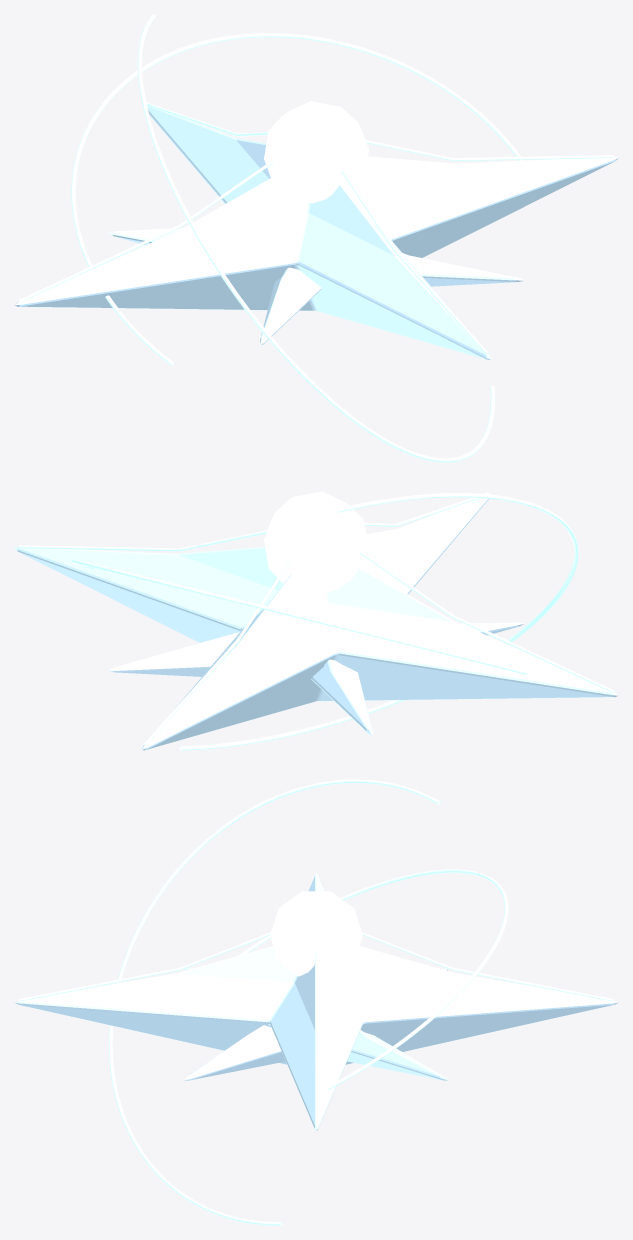
The model's file is aster.glb.
The picture shows the model from 3 angles, top to bottom: view 1: azimuth 30°, elevation 25°; view 2: azimuth 150°, elevation 25°; view 3: azimuth 270°, elevation 25°; orthographic projection. The views are drawn at different scales.
Parts seen in each view (by area): view 1: aster primary, aster radiant core, aster undercrown, aster orbit export, aster orbit.001 export, aster filament.001 export, aster filament.003 export, aster filament.002 export; view 2: aster primary, aster radiant core, aster undercrown, aster orbit.001 export, aster orbit export, aster filament.001 export, aster filament.003 export, aster filament export, aster filament.002 export; view 3: aster primary, aster radiant core, aster undercrown, aster orbit.001 export, aster orbit export, aster filament.002 export, aster filament export.
Boxes of the visible parts, <box> form: aster primary: <box>14,104,618,360</box>; aster radiant core: <box>264,101,368,203</box>; aster undercrown: <box>108,228,524,344</box>; aster orbit export: <box>71,33,523,365</box>; aster orbit.001 export: <box>137,14,495,462</box>; aster filament.001 export: <box>18,160,273,302</box>; aster filament.003 export: <box>365,140,614,160</box>; aster filament.002 export: <box>341,169,489,354</box>; aster primary: <box>14,494,618,750</box>; aster radiant core: <box>264,491,368,593</box>; aster undercrown: <box>108,622,524,735</box>; aster orbit.001 export: <box>179,493,578,750</box>; aster orbit export: <box>71,559,528,674</box>; aster filament.001 export: <box>359,550,614,692</box>; aster filament.003 export: <box>18,530,267,551</box>; aster filament export: <box>143,559,291,744</box>; aster filament.002 export: <box>364,492,489,526</box>; aster primary: <box>14,876,618,1130</box>; aster radiant core: <box>270,891,362,976</box>; aster undercrown: <box>184,968,448,1080</box>; aster orbit.001 export: <box>109,779,440,1225</box>; aster orbit export: <box>238,869,508,1089</box>; aster filament.002 export: <box>19,932,271,1001</box>; aster filament export: <box>361,932,613,1001</box>.
Size of the model in its own units: 3.77 by 2.26 by 3.77.
